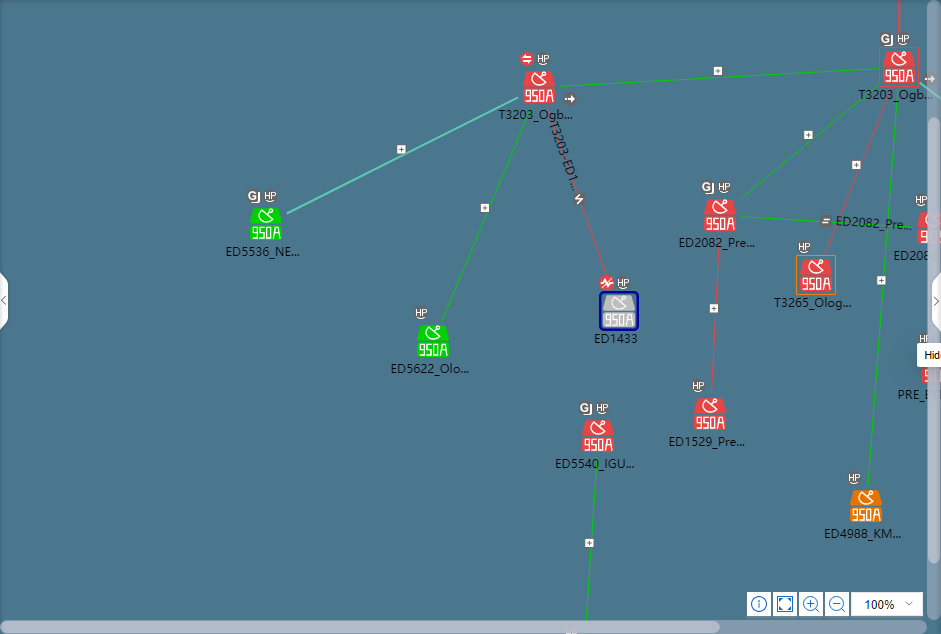Link_Blue: (286, 96, 519, 215)
Link_Green: (441, 108, 532, 321), (741, 84, 878, 199), (867, 88, 899, 487), (560, 68, 877, 87), (741, 216, 912, 229), (585, 458, 598, 620)
Link_Red: (824, 89, 892, 254), (544, 107, 608, 276), (709, 237, 720, 395), (897, 0, 900, 34)
RTN_Gray: (600, 295, 635, 329)
RTN_Green: (416, 326, 448, 357), (251, 209, 281, 240)
RTN_Orange: (850, 491, 880, 523)
RTN_Red: (798, 258, 833, 294), (881, 51, 915, 83), (523, 71, 554, 103), (582, 421, 613, 453), (704, 200, 735, 231), (694, 399, 725, 430)
